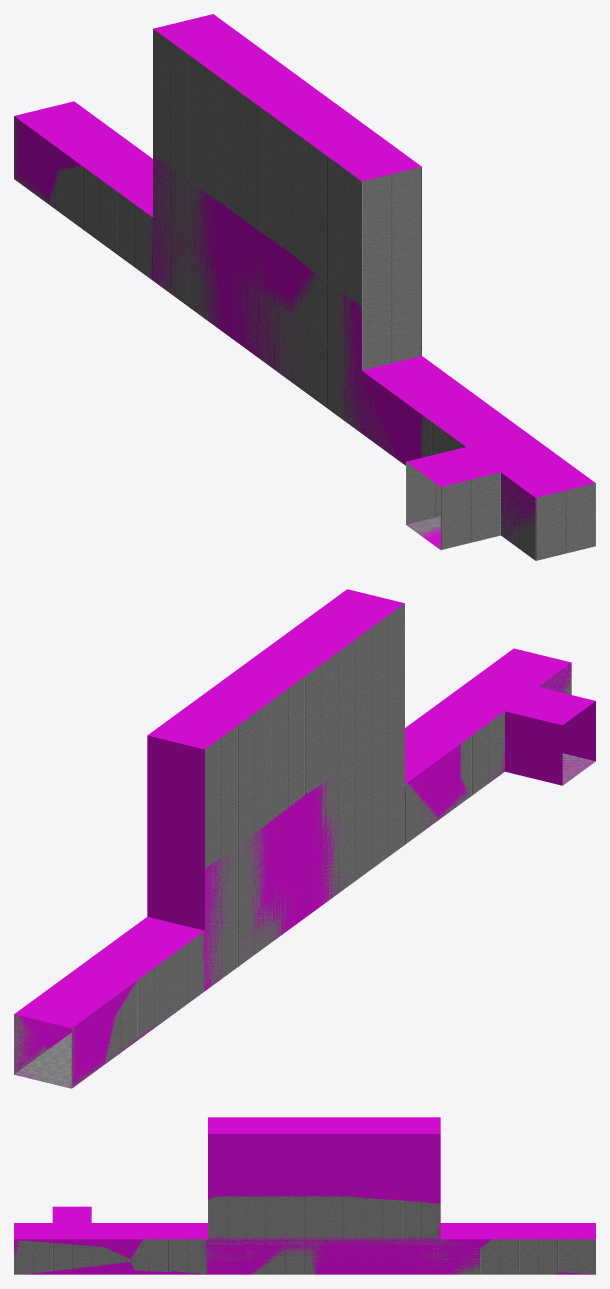
File: mint_stomper_room.fbx
The picture shows the model from 3 angles, top to bottom: view 1: azimuth 30°, elevation 25°; view 2: azimuth 150°, elevation 25°; view 3: azimuth 270°, elevation 25°; orthographic projection. The views are drawn at different scales.
Parts seen in each view (by area): view 1: wall (×2); view 2: wall (×2), floor; view 3: wall (×2).
Boxes of the visible parts, x1,y1,x2,y2 form: wall (×2): [14, 14, 595, 560]; wall (×2): [14, 589, 595, 1088]; floor: [14, 753, 594, 1088]; wall (×2): [14, 1117, 595, 1274].
Size of the model in its own units: 30 by 60 by 225.
